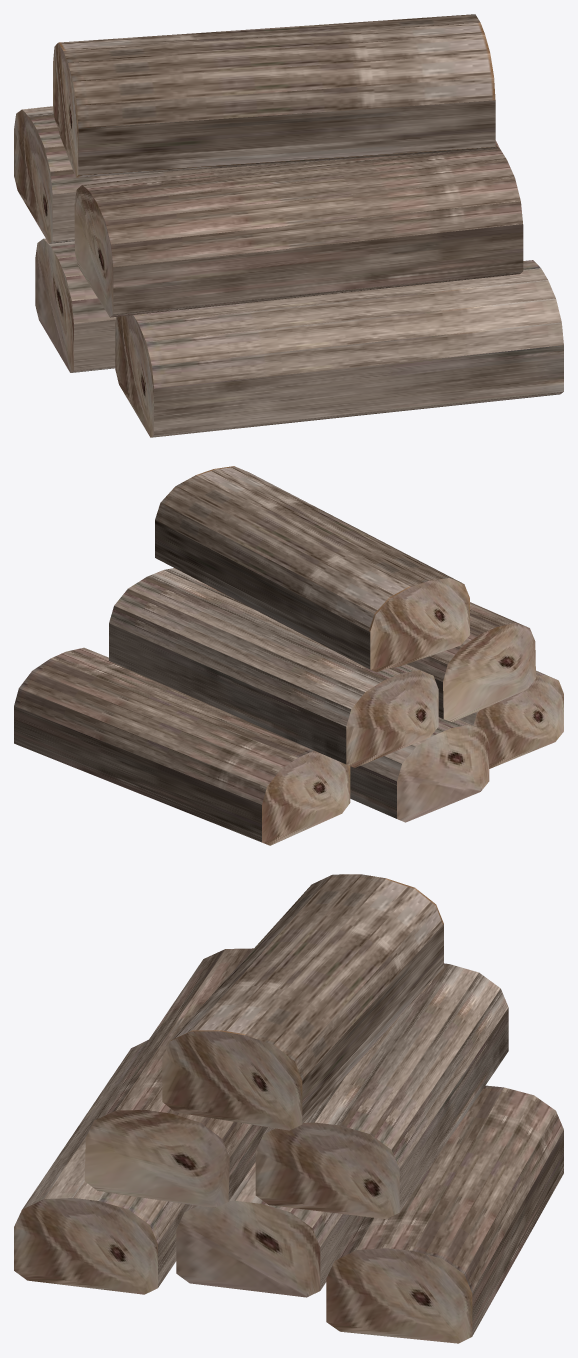
File: woodpile.fbx
3 views of the same model, one above another, from view 1: azimuth 30°, elevation 25°; view 2: azimuth 150°, elevation 25°; view 3: azimuth 270°, elevation 25° (orthographic). The views are drawn at different scales.
Visible parts, largest first — view 1: wood.002, wood.005, wood, wood.003, wood.001; view 2: wood.002, wood.004, wood.001, wood.003, wood.005, wood; view 3: wood.002, wood.004, wood.001, wood.005, wood, wood.003.
Part boxes in pixels (bbox=[...]): wood.002: bbox=[53, 14, 495, 177]; wood.005: bbox=[74, 145, 523, 317]; wood: bbox=[115, 260, 563, 437]; wood.003: bbox=[35, 238, 116, 372]; wood.001: bbox=[14, 106, 276, 243]; wood.002: bbox=[155, 466, 469, 672]; wood.004: bbox=[14, 647, 350, 845]; wood.001: bbox=[109, 568, 438, 767]; wood.003: bbox=[350, 717, 489, 822]; wood.005: bbox=[407, 602, 535, 721]; wood: bbox=[460, 670, 563, 768]; wood.002: bbox=[162, 874, 443, 1130]; wood.004: bbox=[326, 1085, 563, 1343]; wood.001: bbox=[255, 963, 508, 1219]; wood.005: bbox=[84, 948, 267, 1207]; wood: bbox=[14, 1040, 189, 1294]; wood.003: bbox=[176, 1162, 359, 1297].
Bounding box in the file's own units: 335 × 179 × 340.
